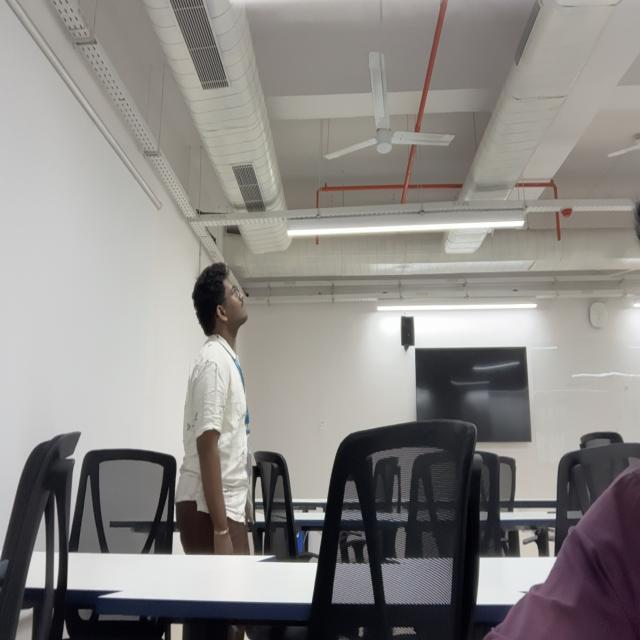sai: (191, 262, 250, 344)
